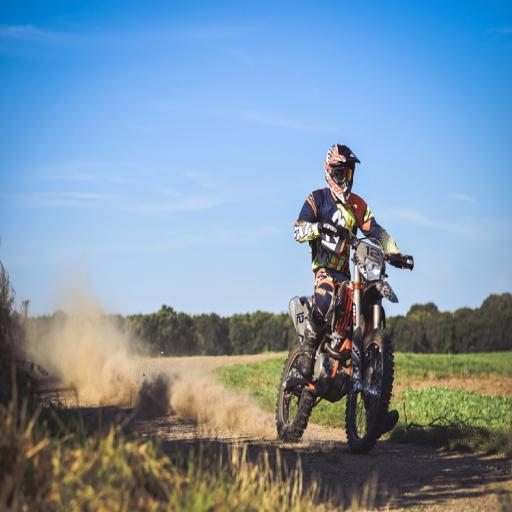helmet: (290, 116, 402, 471)
